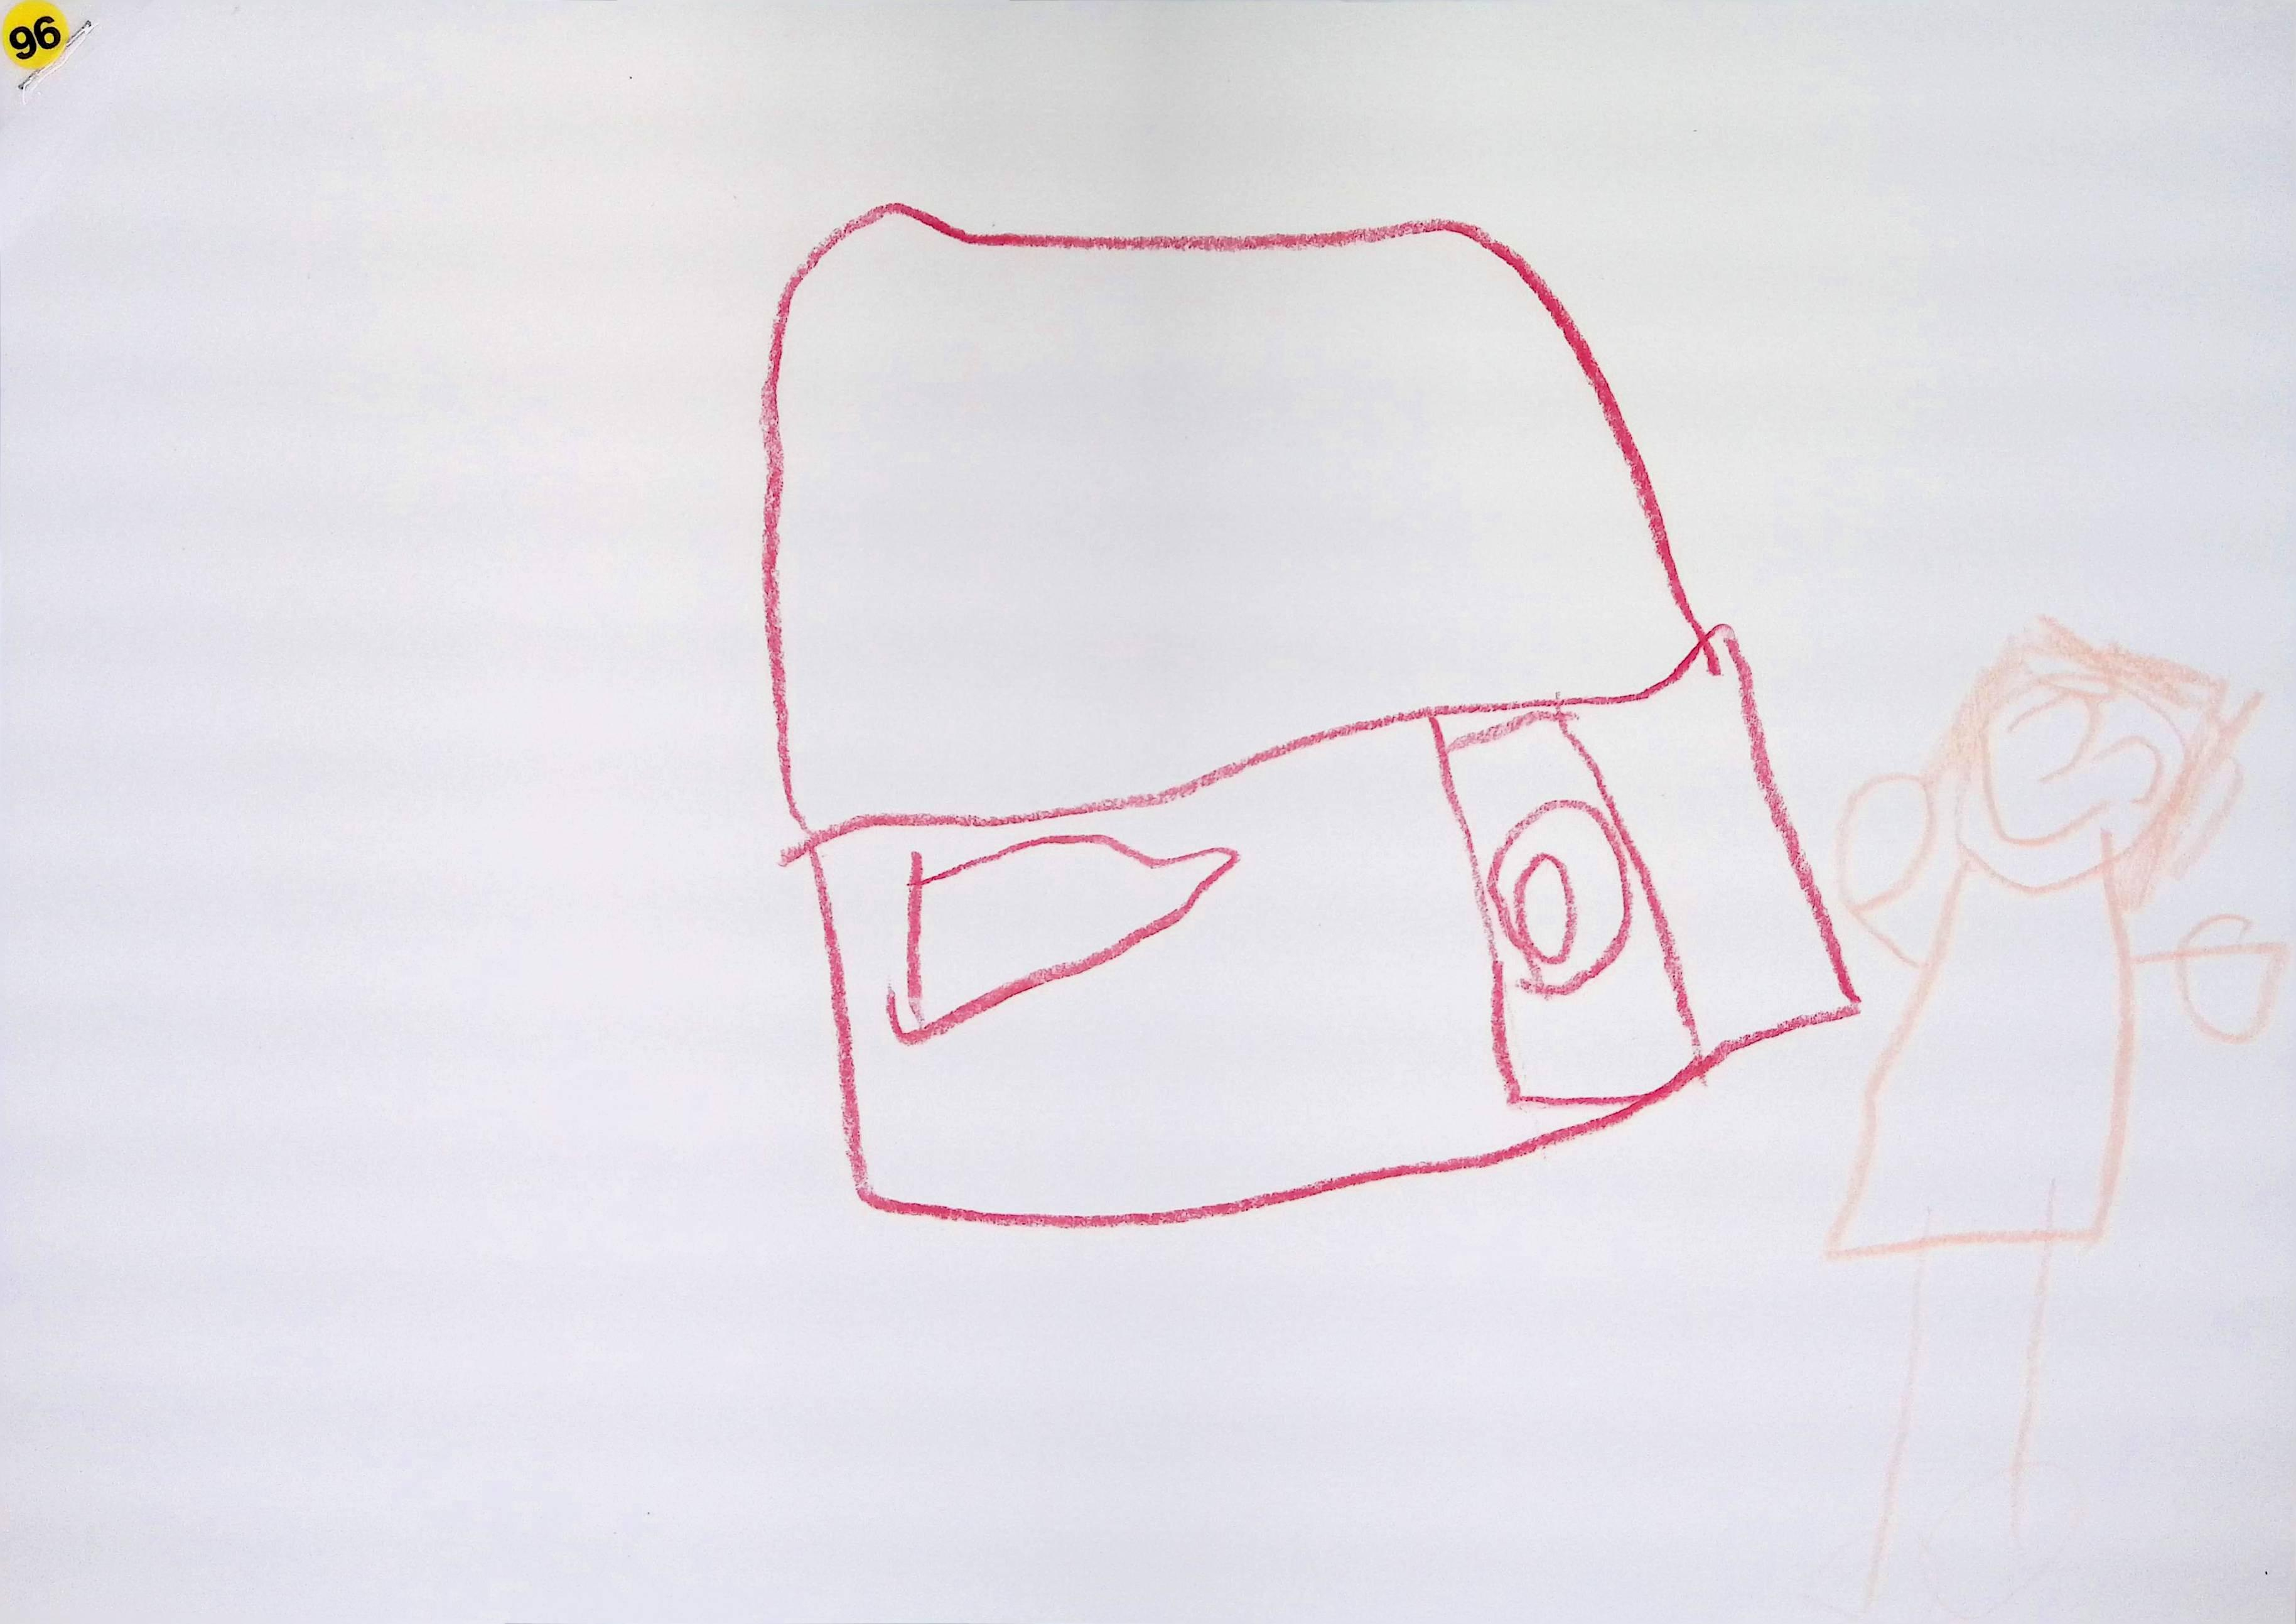door: (1446, 712, 1700, 1104)
house: (762, 199, 1860, 1227)
roof: (780, 220, 1693, 821)
wall: (789, 629, 1857, 1225)
window: (889, 835, 1237, 1042)
